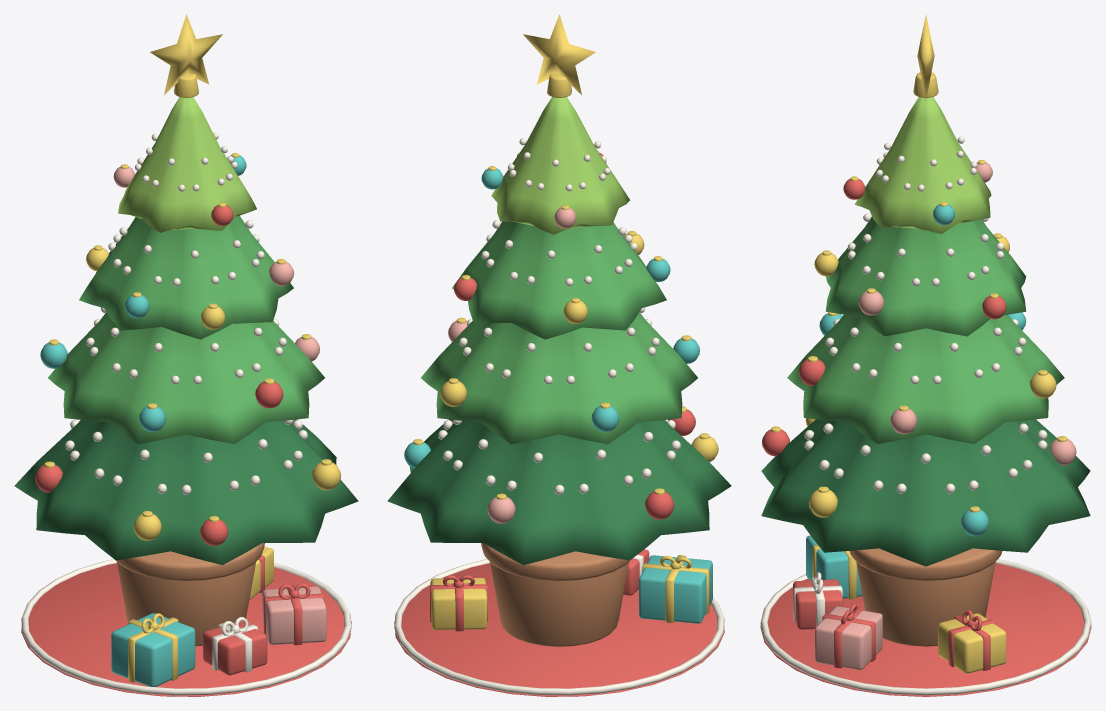
File: christmas-tree.glb
The picture shows the model from 3 angles, left to right: view 1: azimuth 30°, elevation 25°; view 2: azimuth 150°, elevation 25°; view 3: azimuth 270°, elevation 25°; orthographic projection.
Parts seen in each view (by area): view 1: DecChristmasTree_FoliageMid, DecChristmasTree_FoliageDeep, DecChristmasTree_CoralAccents, DecChristmasTree_FoliageCrown, DecChristmasTree_GarlandAndTrim, DecChristmasTree_Pot, DecChristmasTree_ButterStarGifts, DecChristmasTree_TurquoiseAccents, DecChristmasTree_PeachAccents; view 2: DecChristmasTree_FoliageMid, DecChristmasTree_FoliageDeep, DecChristmasTree_CoralAccents, DecChristmasTree_Pot, DecChristmasTree_FoliageCrown, DecChristmasTree_ButterStarGifts, DecChristmasTree_GarlandAndTrim, DecChristmasTree_TurquoiseAccents, DecChristmasTree_PeachAccents; view 3: DecChristmasTree_FoliageMid, DecChristmasTree_FoliageDeep, DecChristmasTree_CoralAccents, DecChristmasTree_FoliageCrown, DecChristmasTree_Pot, DecChristmasTree_GarlandAndTrim, DecChristmasTree_ButterStarGifts, DecChristmasTree_PeachAccents, DecChristmasTree_TurquoiseAccents.
Part boxes in pixels (x1,y1,x2,y2): DecChristmasTree_FoliageMid: (48, 215, 324, 444); DecChristmasTree_FoliageDeep: (14, 419, 358, 564); DecChristmasTree_CoralAccents: (21, 205, 351, 696); DecChristmasTree_FoliageCrown: (118, 97, 256, 232); DecChristmasTree_GarlandAndTrim: (21, 132, 351, 695); DecChristmasTree_Pot: (115, 543, 264, 646); DecChristmasTree_ButterStarGifts: (44, 14, 341, 682); DecChristmasTree_TurquoiseAccents: (40, 155, 246, 686); DecChristmasTree_PeachAccents: (113, 166, 326, 644); DecChristmasTree_FoliageMid: (421, 221, 697, 444); DecChristmasTree_FoliageDeep: (387, 419, 731, 564); DecChristmasTree_CoralAccents: (394, 152, 724, 696); DecChristmasTree_Pot: (481, 543, 630, 646); DecChristmasTree_FoliageCrown: (491, 97, 629, 234); DecChristmasTree_ButterStarGifts: (413, 14, 718, 629); DecChristmasTree_GarlandAndTrim: (394, 138, 724, 695); DecChristmasTree_TurquoiseAccents: (404, 168, 712, 623); DecChristmasTree_PeachAccents: (448, 207, 576, 523); DecChristmasTree_FoliageMid: (787, 217, 1064, 443); DecChristmasTree_FoliageDeep: (761, 419, 1090, 566); DecChristmasTree_CoralAccents: (760, 178, 1091, 696); DecChristmasTree_FoliageCrown: (854, 97, 991, 233); DecChristmasTree_Pot: (849, 548, 1002, 646); DecChristmasTree_GarlandAndTrim: (760, 136, 1091, 695); DecChristmasTree_ButterStarGifts: (771, 15, 1067, 673); DecChristmasTree_PeachAccents: (815, 162, 1076, 669); DecChristmasTree_TurquoiseAccents: (806, 204, 1026, 598).
Size of the model in its own units: 1.12 by 2.2 by 1.07.
